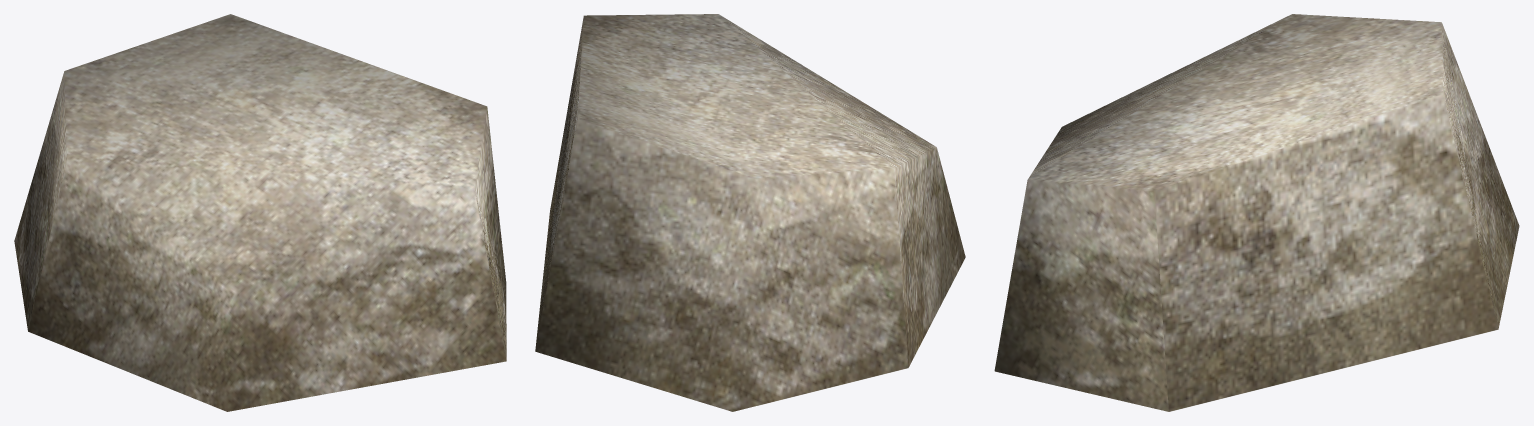
The model's file is Small_Stone1.fbx.
3 renders of one model, left to right at view 1: azimuth 30°, elevation 25°; view 2: azimuth 150°, elevation 25°; view 3: azimuth 270°, elevation 25°, orthographic. The views are drawn at different scales.
Visible parts, largest first — view 1: polySurface1; view 2: polySurface1; view 3: polySurface1.
Part boxes in pixels (x1,y1,x2,y2): polySurface1: (14,14,506,411); polySurface1: (535,14,965,411); polySurface1: (994,14,1519,411).
Bounding box in the file's own units: 0.2148 × 0.1097 × 0.2164.
